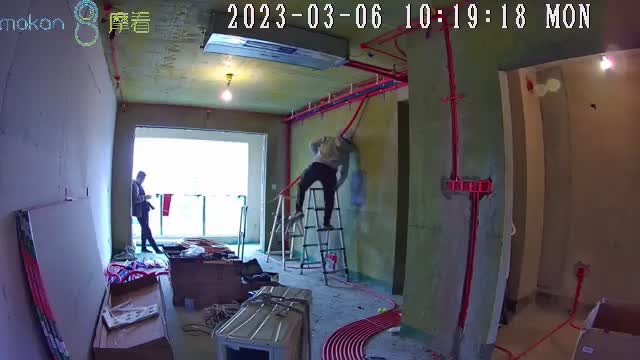people: (288, 135, 354, 230), (132, 170, 165, 254)
window: (130, 134, 250, 236)
